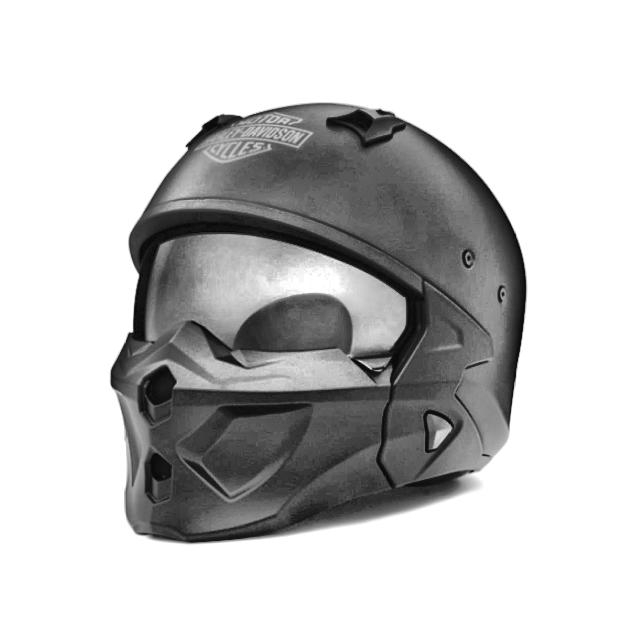Helmet: (107, 86, 539, 553)
